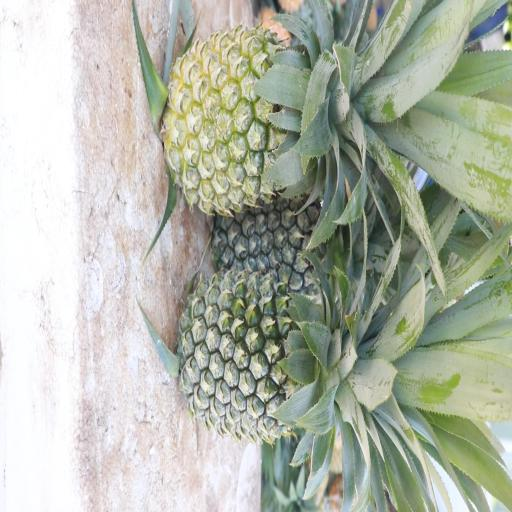Pineapple - v8 v1: (166, 26, 345, 210)
